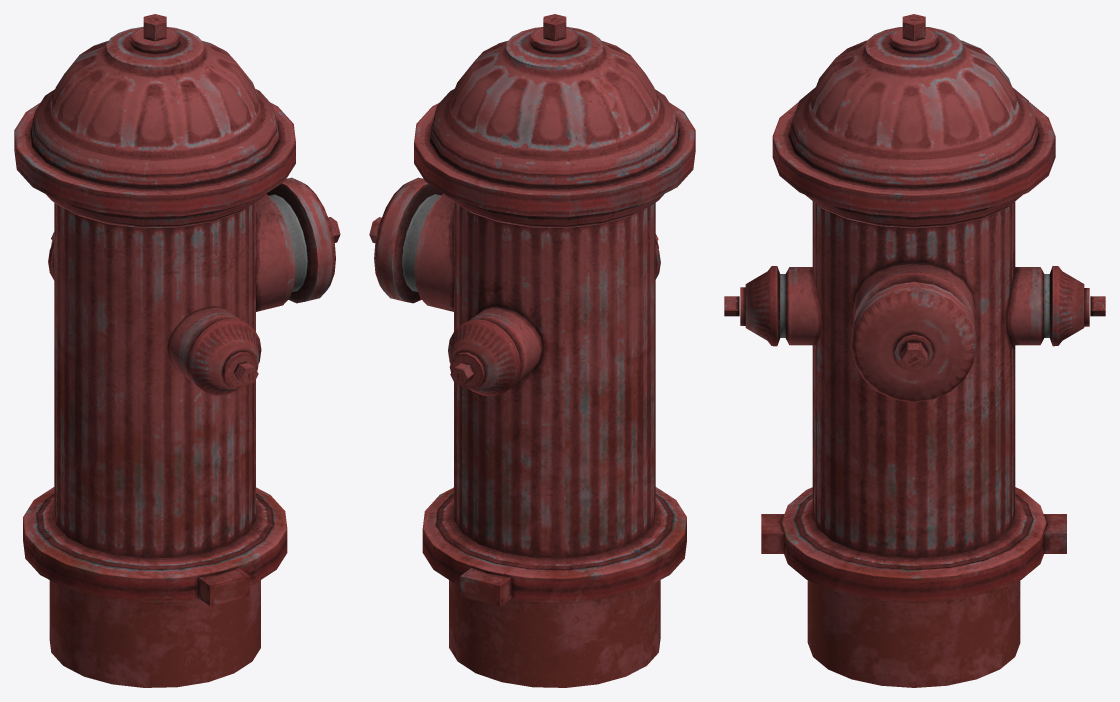
Rendered from Hydrant_01.fbx.
The picture shows the model from 3 angles, left to right: view 1: azimuth 30°, elevation 25°; view 2: azimuth 150°, elevation 25°; view 3: azimuth 270°, elevation 25°; orthographic projection.
Parts seen in each view (by area): view 1: Hydrant_01_LOD0; view 2: Hydrant_01_LOD0; view 3: Hydrant_01_LOD0.
Part boxes in pixels (<box>): Hydrant_01_LOD0: <box>14,14,340,687</box>; Hydrant_01_LOD0: <box>369,14,695,687</box>; Hydrant_01_LOD0: <box>724,14,1105,687</box>.
Size of what is drawn, in the model's own units: 35.23 by 69.67 by 38.6.
